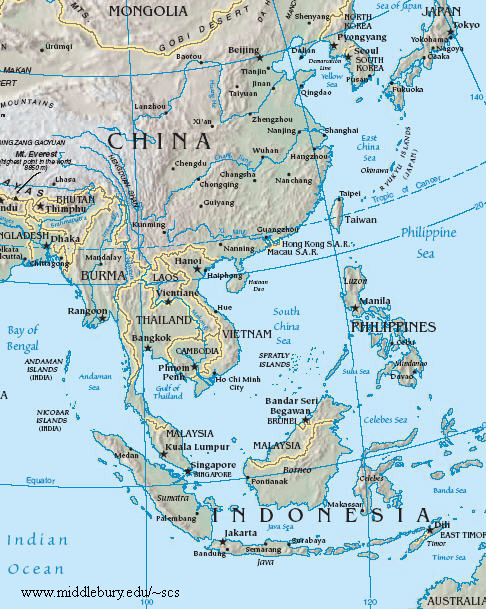Island: (249, 340, 317, 377)
